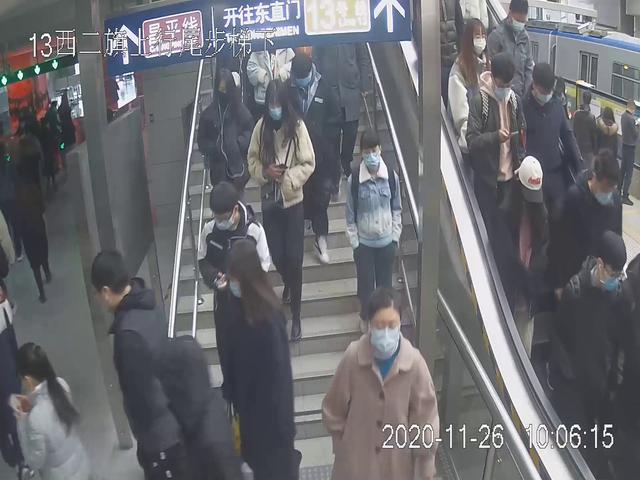person: (84, 246, 195, 480), (320, 284, 443, 480), (215, 237, 309, 480), (245, 78, 319, 344), (552, 228, 630, 468), (488, 152, 553, 376), (276, 54, 344, 266), (344, 126, 406, 347), (467, 51, 528, 246), (195, 65, 258, 251)
